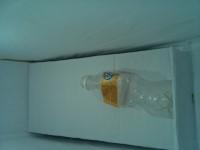bottle: (76, 70, 178, 121)
